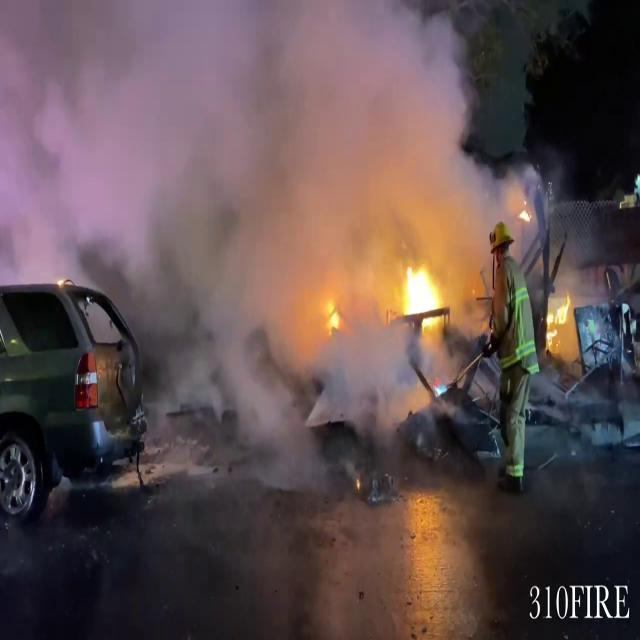Fire: (392, 258, 454, 330)
Smoke: (0, 0, 532, 435)
